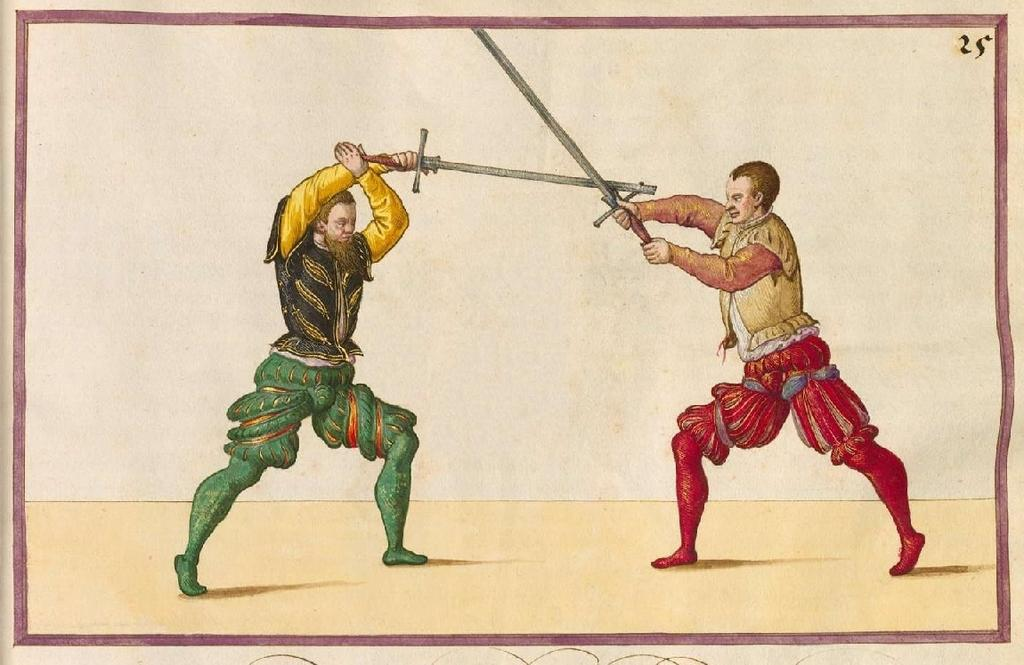Sword: (467, 18, 654, 248), (343, 136, 654, 191)
